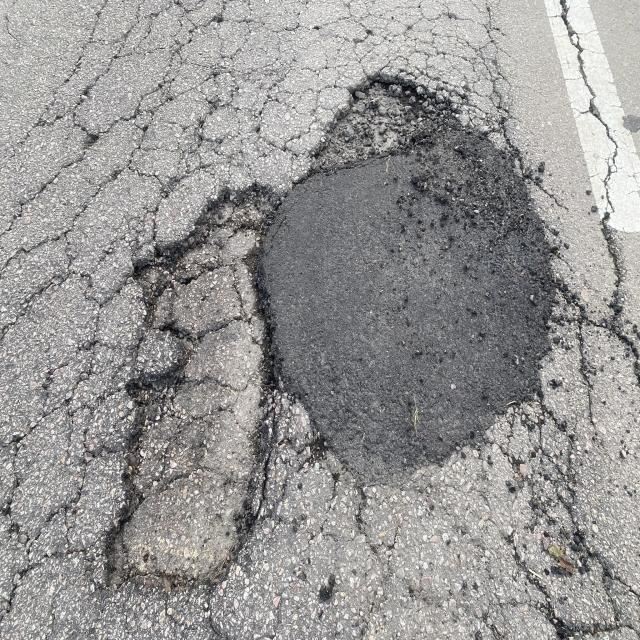Pothole: (122, 132, 315, 640), (284, 57, 484, 214)
